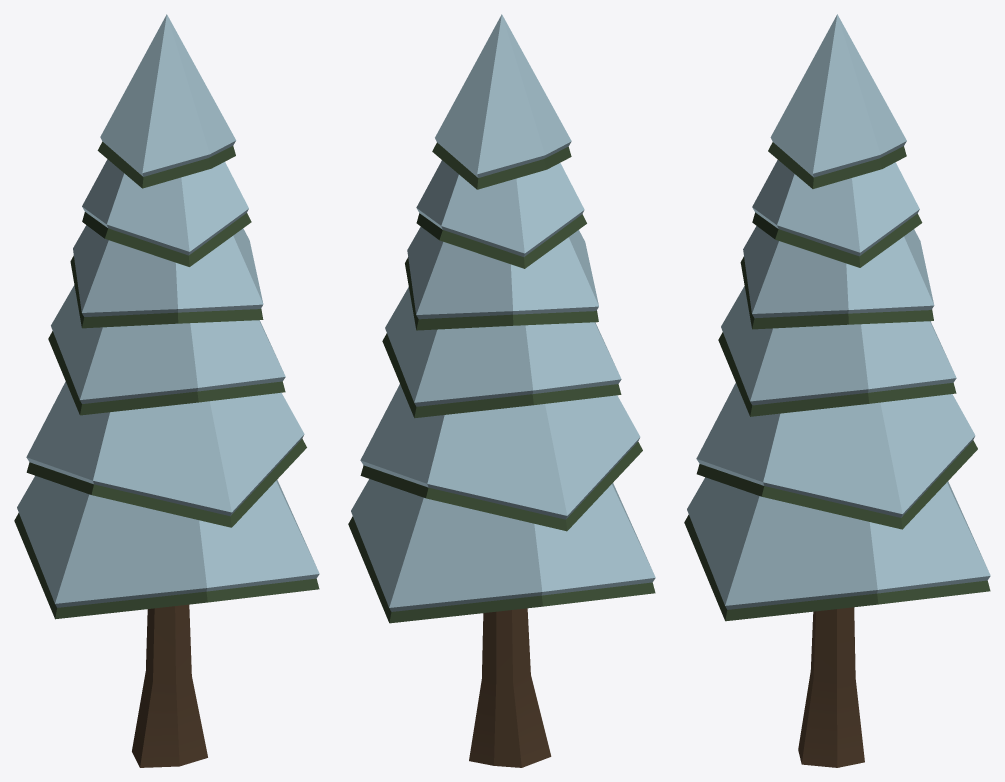
The model's file is Geo_PineLarge.fbx.
3 renders of one model, left to right at view 1: azimuth 30°, elevation 25°; view 2: azimuth 150°, elevation 25°; view 3: azimuth 270°, elevation 25°, orthographic.
Parts seen in each view (by area): view 1: PineTreeLarge_Mesh; view 2: PineTreeLarge_Mesh; view 3: PineTreeLarge_Mesh.
Part boxes in pixels (x1,y1,x2,y2): PineTreeLarge_Mesh: [14, 14, 319, 767]; PineTreeLarge_Mesh: [348, 14, 655, 767]; PineTreeLarge_Mesh: [684, 14, 990, 767].
Bounding box in the file's own units: 435 × 1157 × 435.
